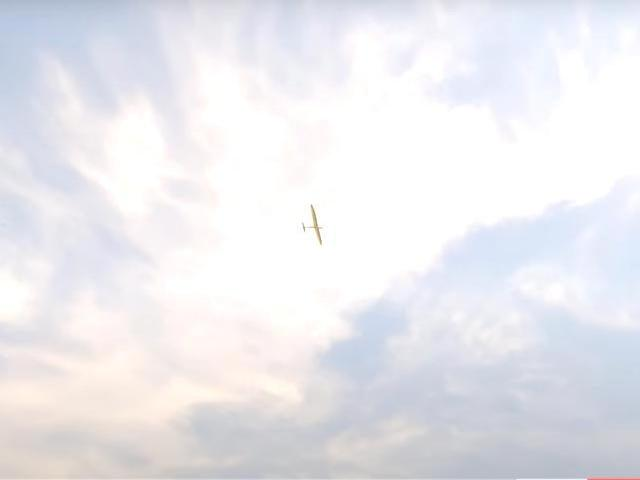iha: (300, 204, 328, 246)
